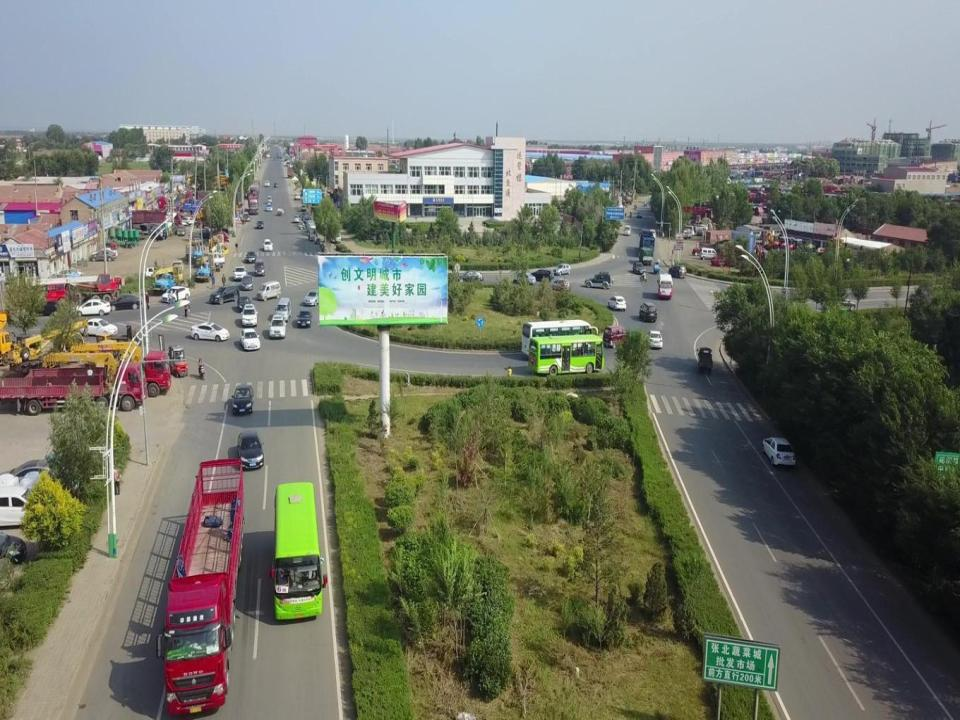bus: (270, 482, 327, 621), (522, 319, 599, 361), (528, 333, 604, 375), (656, 273, 674, 298)
car: (1, 458, 76, 501), (0, 485, 49, 528), (761, 436, 796, 467), (236, 432, 264, 469), (190, 321, 230, 341), (79, 317, 118, 337), (232, 383, 255, 416), (208, 285, 240, 304), (74, 300, 111, 316), (109, 294, 142, 310), (584, 271, 614, 288), (32, 300, 61, 316), (162, 286, 190, 302), (240, 329, 260, 350), (269, 315, 287, 338), (241, 304, 258, 326), (456, 270, 483, 283), (302, 288, 322, 305), (296, 310, 314, 328), (89, 250, 116, 262), (531, 268, 554, 282), (512, 272, 536, 285), (92, 246, 117, 258), (646, 330, 662, 348), (668, 264, 687, 278), (236, 296, 252, 312), (553, 262, 571, 276), (607, 296, 625, 310), (550, 278, 570, 290), (144, 267, 162, 280), (328, 226, 341, 243), (632, 262, 646, 274), (242, 276, 253, 290), (245, 250, 256, 262), (263, 238, 273, 251), (180, 216, 193, 225), (177, 224, 186, 234), (256, 220, 265, 229), (293, 215, 300, 222), (264, 180, 270, 186), (294, 193, 300, 199), (244, 214, 249, 221), (301, 204, 306, 211), (243, 208, 248, 214), (274, 182, 278, 187)
truck: (157, 458, 243, 714), (0, 360, 145, 415), (63, 350, 172, 397), (44, 282, 120, 305), (152, 273, 185, 292), (196, 257, 215, 281), (696, 346, 713, 371), (247, 181, 259, 214), (638, 230, 654, 254), (185, 243, 203, 263), (638, 246, 654, 266), (287, 166, 293, 178)
van: (603, 326, 629, 348), (257, 281, 281, 301), (274, 296, 292, 320), (638, 301, 657, 322), (699, 247, 717, 259), (254, 260, 266, 275), (649, 229, 656, 242), (623, 225, 631, 235), (266, 196, 272, 203)
